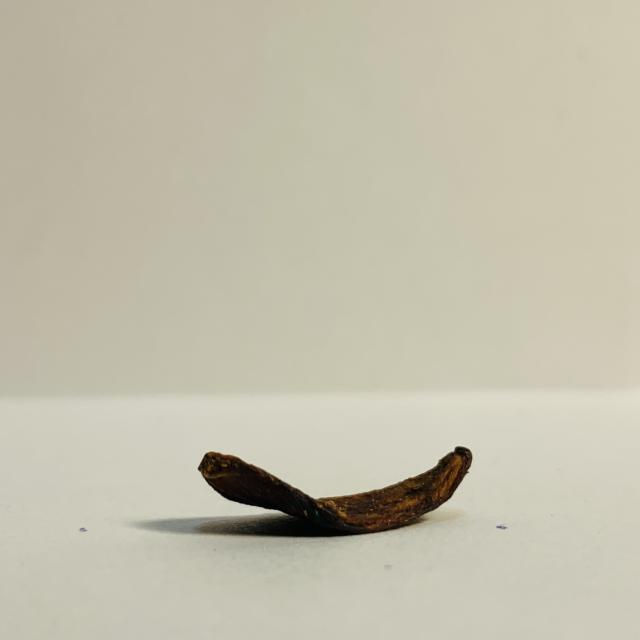Flat_cocoabeans: (84, 392, 532, 550)
